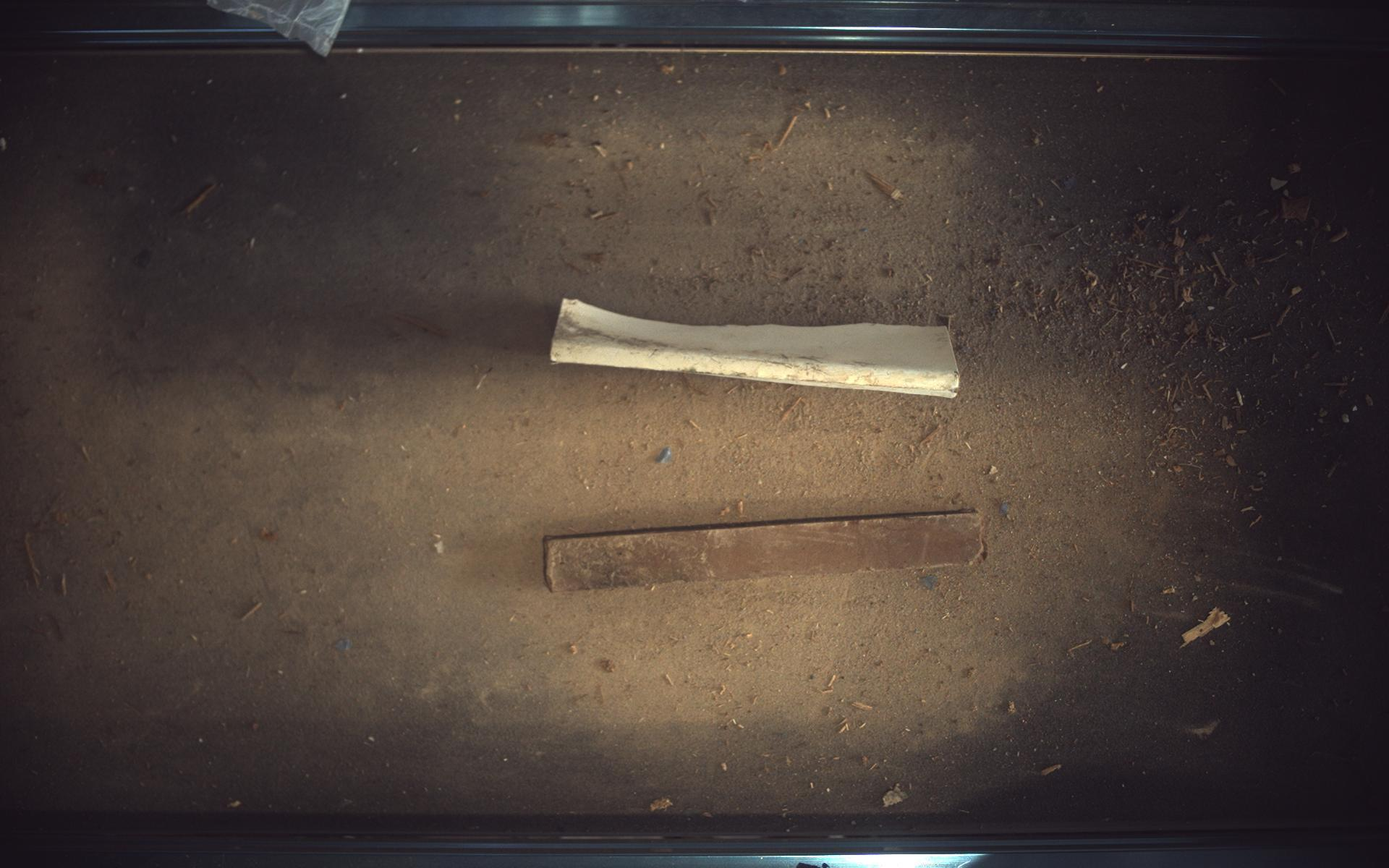wood: (551, 298, 961, 398), (545, 511, 984, 593)
